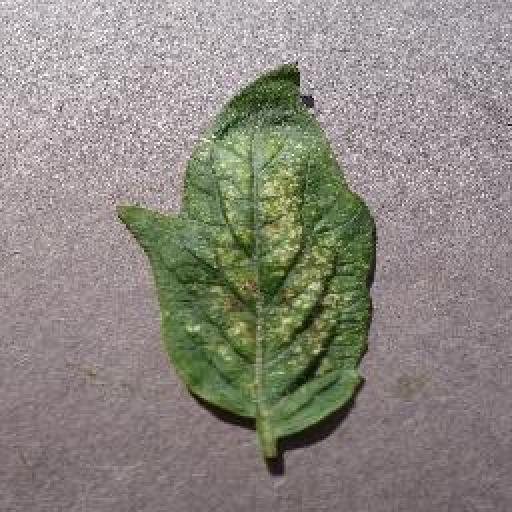disease_tomato: (114, 58, 374, 434)
